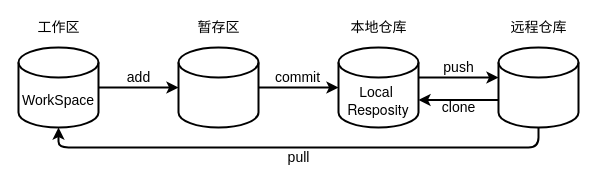
The diagram is 596 pixels wide and 184 high, and some of its shapes have lost their labels. The shapes that lost their labels are listed below. From the top down, each one's centre as x and y in pixels, then its label:
At [218,87]: "Stage".
At [538,87]: "Remote Resposity".
